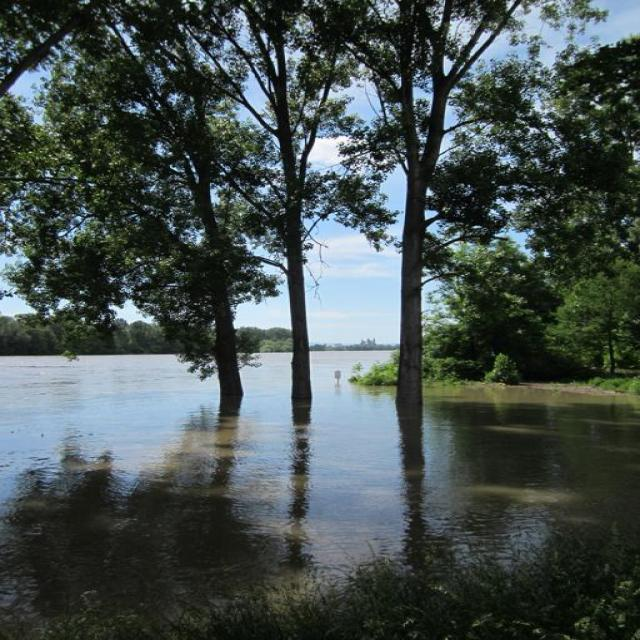flood: (1, 323, 640, 509)
